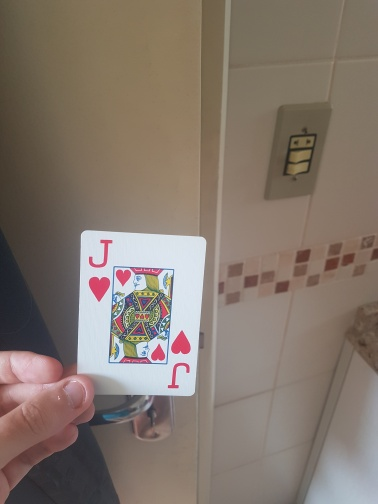jack: (76, 230, 207, 394)
